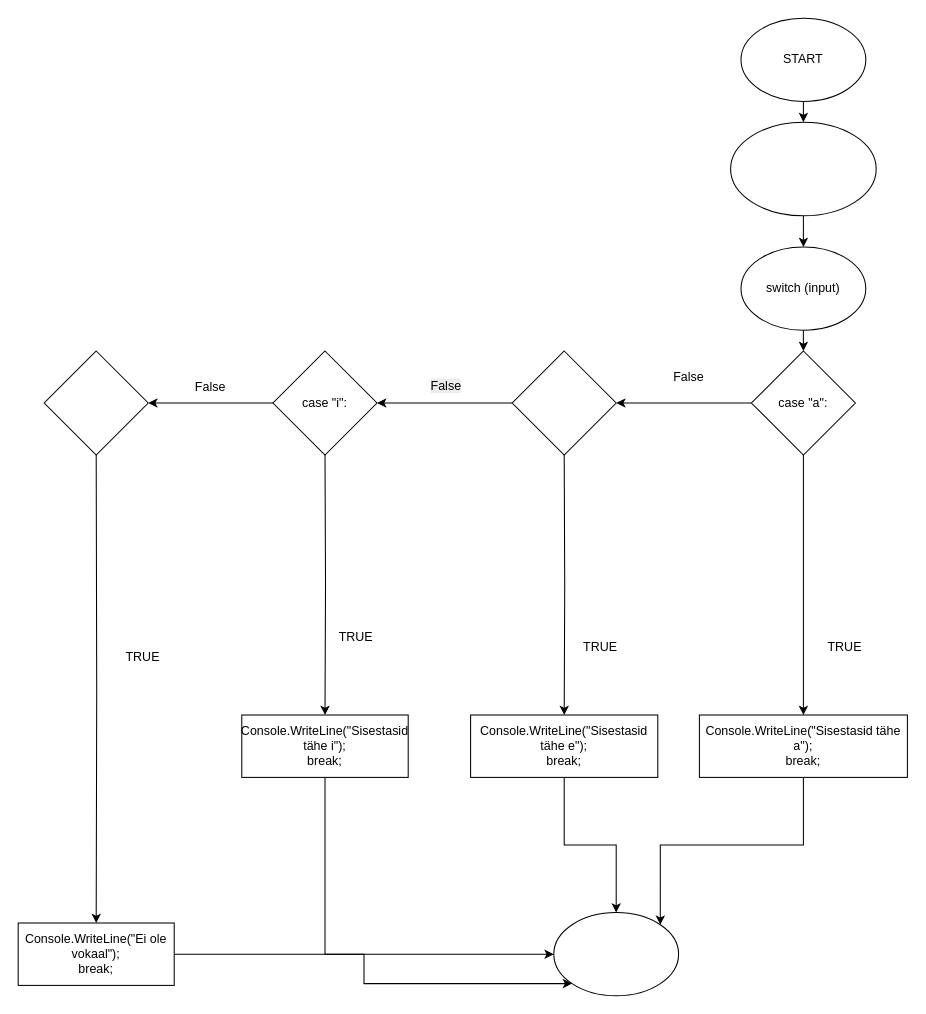
The diagram is 926 pixels wide and 1014 high, and some of its shapes have lost their labels. The box of each missing label's shape, as (x1, y1, x2, y2) in pixels:
case "e":: (511, 350, 616, 455)
default:: (43, 350, 148, 455)
END: (553, 912, 679, 996)
string input = Console.ReadLine();: (730, 121, 876, 216)
